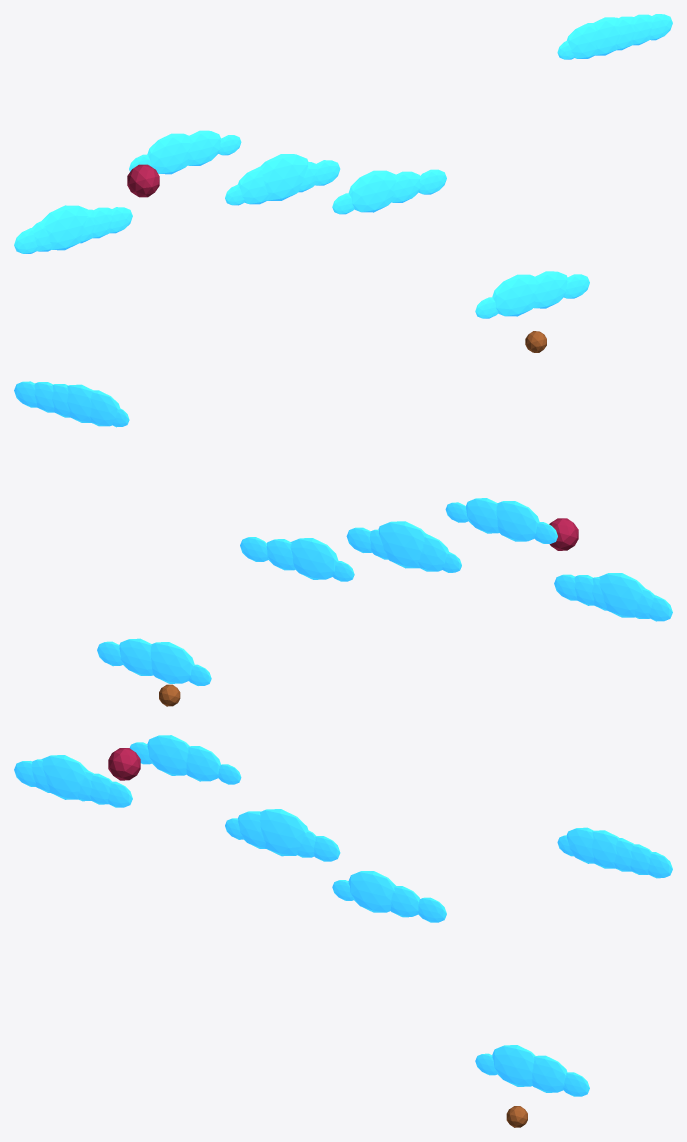
File: nebula.glb
The picture shows the model from 3 angles, top to bottom: view 1: azimuth 30°, elevation 25°; view 2: azimuth 150°, elevation 25°; view 3: azimuth 330°, elevation 25°; orthographic projection.
Visible parts, largest first — view 1: C0_0, FarA; view 2: C0_0, FarA; view 3: C0_0, FarA.
Part boxes in pixels (x1,y1,x2,y2): C0_0: (14, 14, 672, 318); FarA: (127, 164, 159, 197); C0_0: (14, 381, 672, 685); FarA: (549, 518, 578, 550); C0_0: (14, 735, 672, 1096); FarA: (108, 748, 140, 780).
Size of the model in its own units: 20.13 by 9.02 by 1.07.
